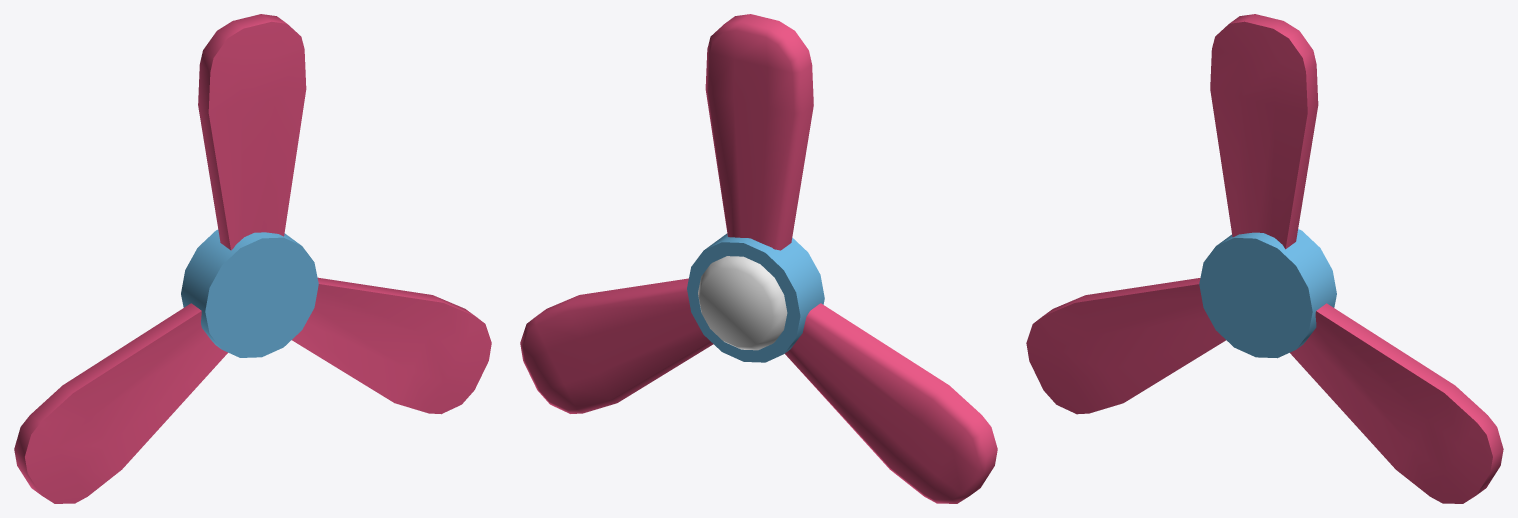
File: PROPELLER.fbx
The picture shows the model from 3 angles, left to right: view 1: azimuth 30°, elevation 25°; view 2: azimuth 150°, elevation 25°; view 3: azimuth 330°, elevation 25°; orthographic projection.
Visible parts, largest first — view 1: Cylinder.004, Cylinder.005, Cylinder.003, propeller; view 2: Cylinder.004, Cylinder.005, Cylinder.003, propeller; view 3: Cylinder.003, Cylinder.005, Cylinder.004, propeller.
Boxes of the visible parts, x1,y1,x2,y2 form: Cylinder.004: (14, 303, 227, 503); Cylinder.005: (198, 14, 306, 250); Cylinder.003: (292, 277, 491, 414); propeller: (181, 229, 318, 357); Cylinder.004: (785, 303, 997, 503); Cylinder.005: (705, 14, 813, 250); Cylinder.003: (520, 278, 713, 413); propeller: (687, 233, 824, 362); Cylinder.003: (1290, 303, 1503, 503); Cylinder.005: (1210, 14, 1318, 249); Cylinder.004: (1026, 278, 1225, 414); propeller: (1199, 229, 1336, 358).
Bounding box in the file's own units: 547 × 485 × 64.44.
